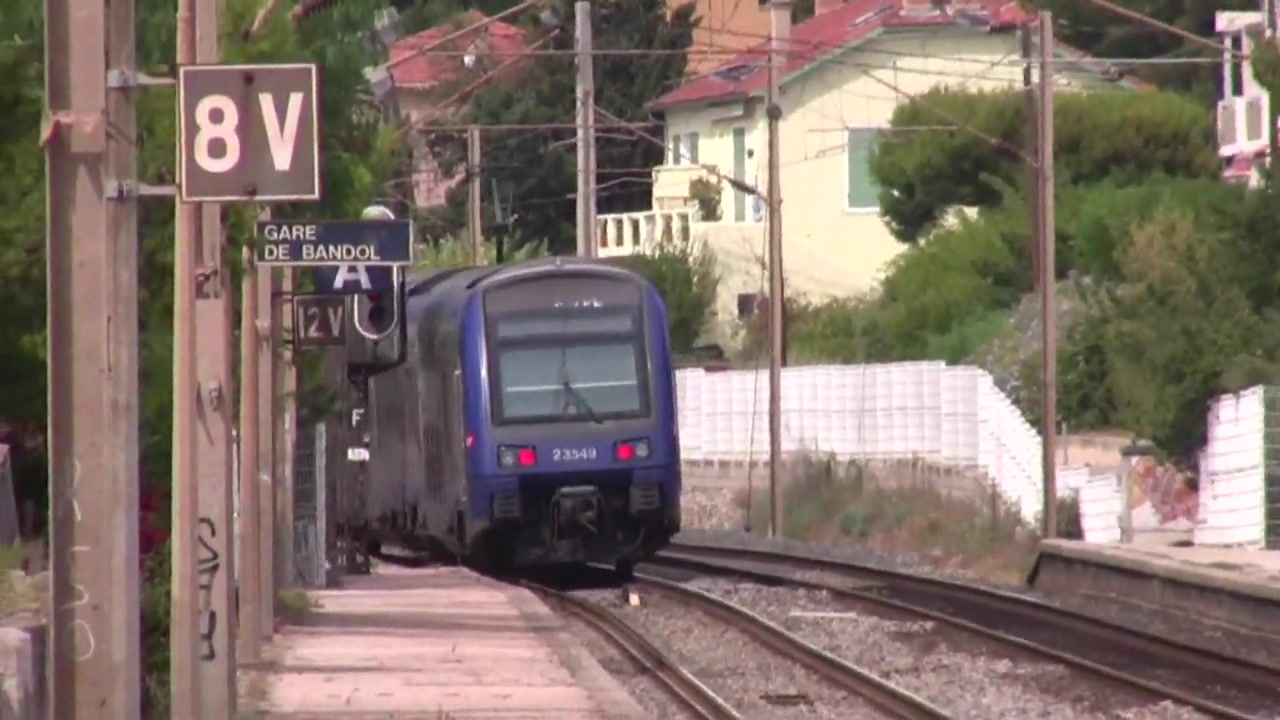train: (346, 256, 683, 580)
